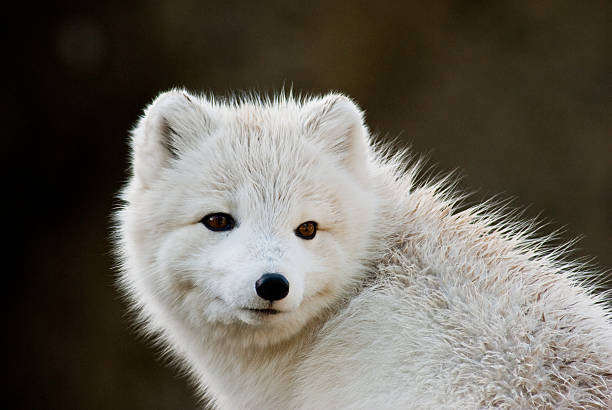arcticfox: (169, 154, 352, 343)
